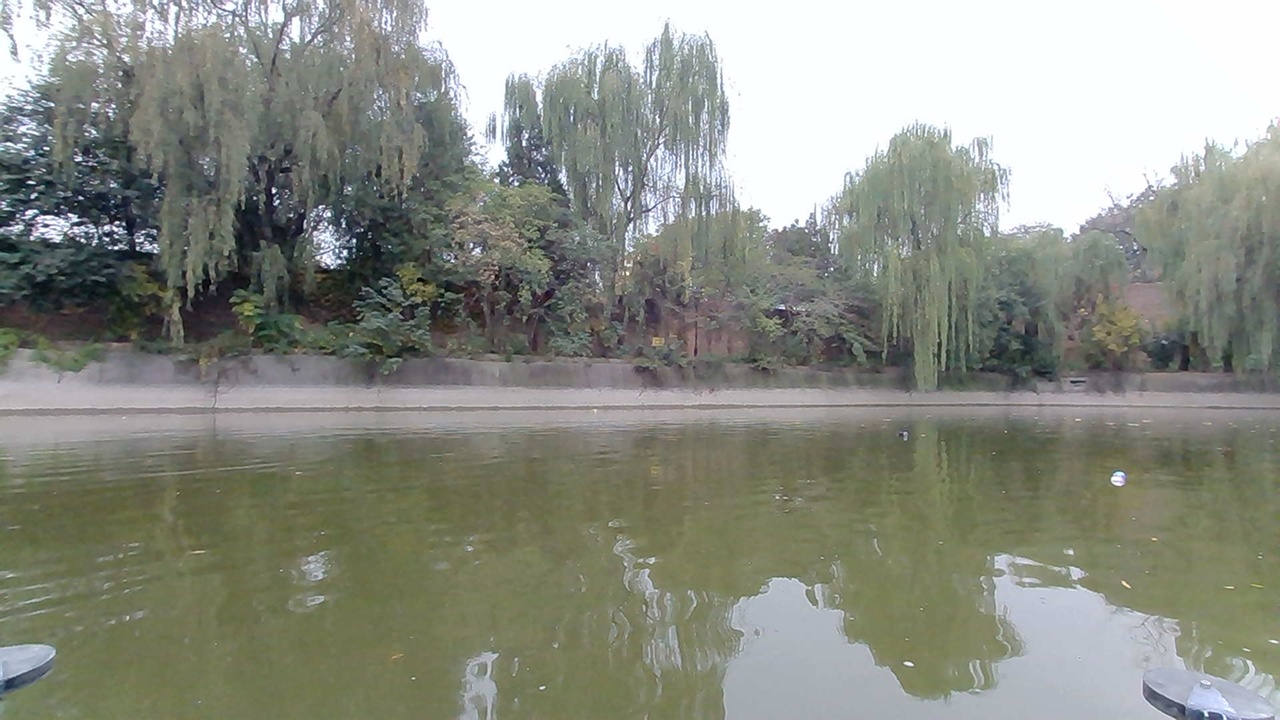bottle: (1097, 464, 1136, 493), (890, 421, 918, 447)
